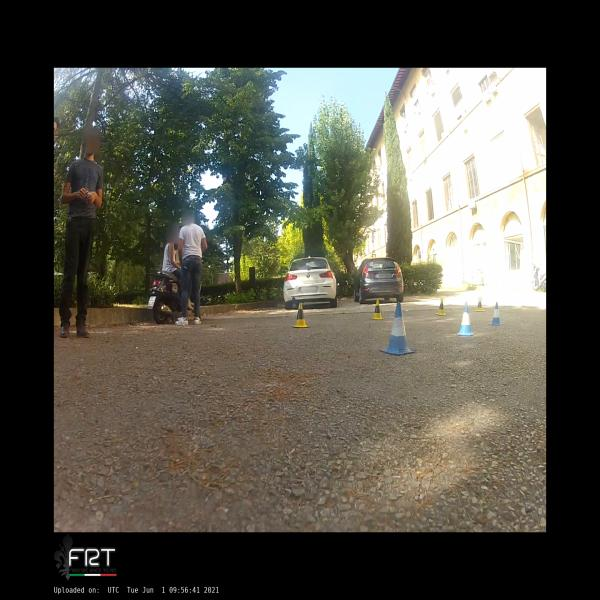blue_cone: (379, 302, 414, 354), (456, 303, 475, 336), (489, 302, 504, 326)
yellow_cone: (292, 302, 310, 329), (370, 299, 384, 320), (436, 298, 447, 316), (475, 298, 485, 312)
